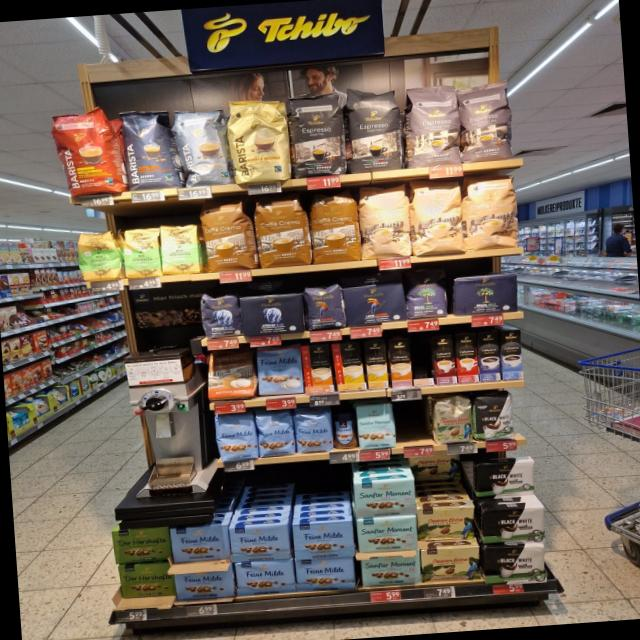AB Bohne: (198, 292, 240, 339)
AB Gemahlen: (240, 293, 306, 337)
Athiopien Bohne: (76, 228, 122, 283)
Athiopien Gemahlen: (158, 219, 202, 276), (123, 226, 162, 279)
BM Bohne: (406, 266, 448, 320)
BM Gemahlen: (452, 271, 520, 316)
BW Bohne: (472, 392, 518, 442)
BW Gemahlen: (478, 502, 546, 546), (483, 542, 548, 587), (472, 458, 536, 499)
Barista CB: (227, 96, 292, 183)
Barista CC: (176, 105, 233, 186)
Barista Espresso: (117, 107, 182, 190)
Barista Kolumbien: (49, 108, 124, 198)
CC Mild: (464, 172, 524, 252), (407, 177, 467, 256), (357, 182, 412, 258)
CC Vollmundig: (206, 348, 256, 400)
CC Vollmundig 36 Pads: (252, 196, 312, 268), (198, 200, 256, 273), (308, 192, 360, 264)
Colombia BB Bohne: (432, 396, 476, 446)
Colombia BB Gemahlen: (419, 544, 482, 584), (416, 503, 476, 543)
Empty Shelf: (395, 398, 434, 446), (410, 334, 433, 378)
Espresso Kraftig: (344, 84, 405, 174), (288, 93, 349, 179)
Espresso M Art: (454, 78, 516, 164), (403, 82, 462, 168)
FM 36 Pads: (256, 342, 304, 397)
FM Bohne: (214, 413, 260, 461), (294, 409, 334, 454), (254, 412, 294, 456)
FM Gemahlen: (226, 521, 292, 563), (290, 519, 356, 561), (174, 562, 236, 601), (294, 556, 356, 594), (236, 558, 296, 596), (172, 524, 231, 562)
FM Instant: (333, 413, 359, 449)
Herzhatfe Mundig: (110, 526, 174, 564), (117, 560, 176, 598)
LG Bohne: (304, 284, 346, 329)
LG Gemahlen: (342, 282, 408, 328)
SM Bohne: (354, 402, 396, 450)
SM Gemahlen: (353, 477, 417, 518), (355, 514, 419, 554), (360, 550, 422, 588)
Simo CCMild: (331, 341, 366, 391)
Simo CCMild bigpack: (363, 338, 388, 389)
Simo CCVollmundig: (302, 344, 334, 394)
Simo CCVollmundig bigpack: (387, 337, 412, 388)
Simo Es Brazil: (454, 332, 479, 384)
Simo Es Caramel: (432, 334, 456, 385)
Simo Es Kraft: (478, 329, 502, 382)
Simo Es Vanilla: (500, 328, 524, 379)
